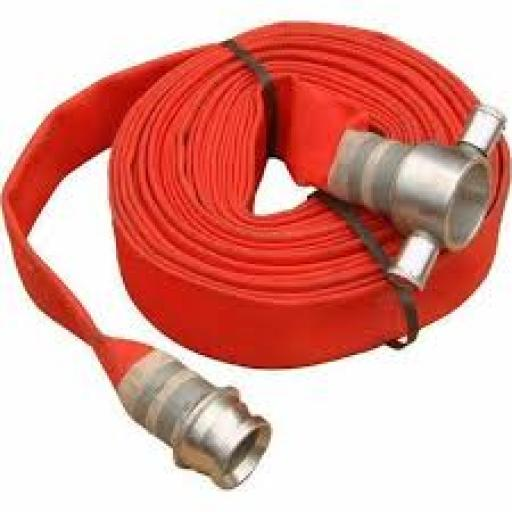fire_hose: (20, 0, 512, 512)
